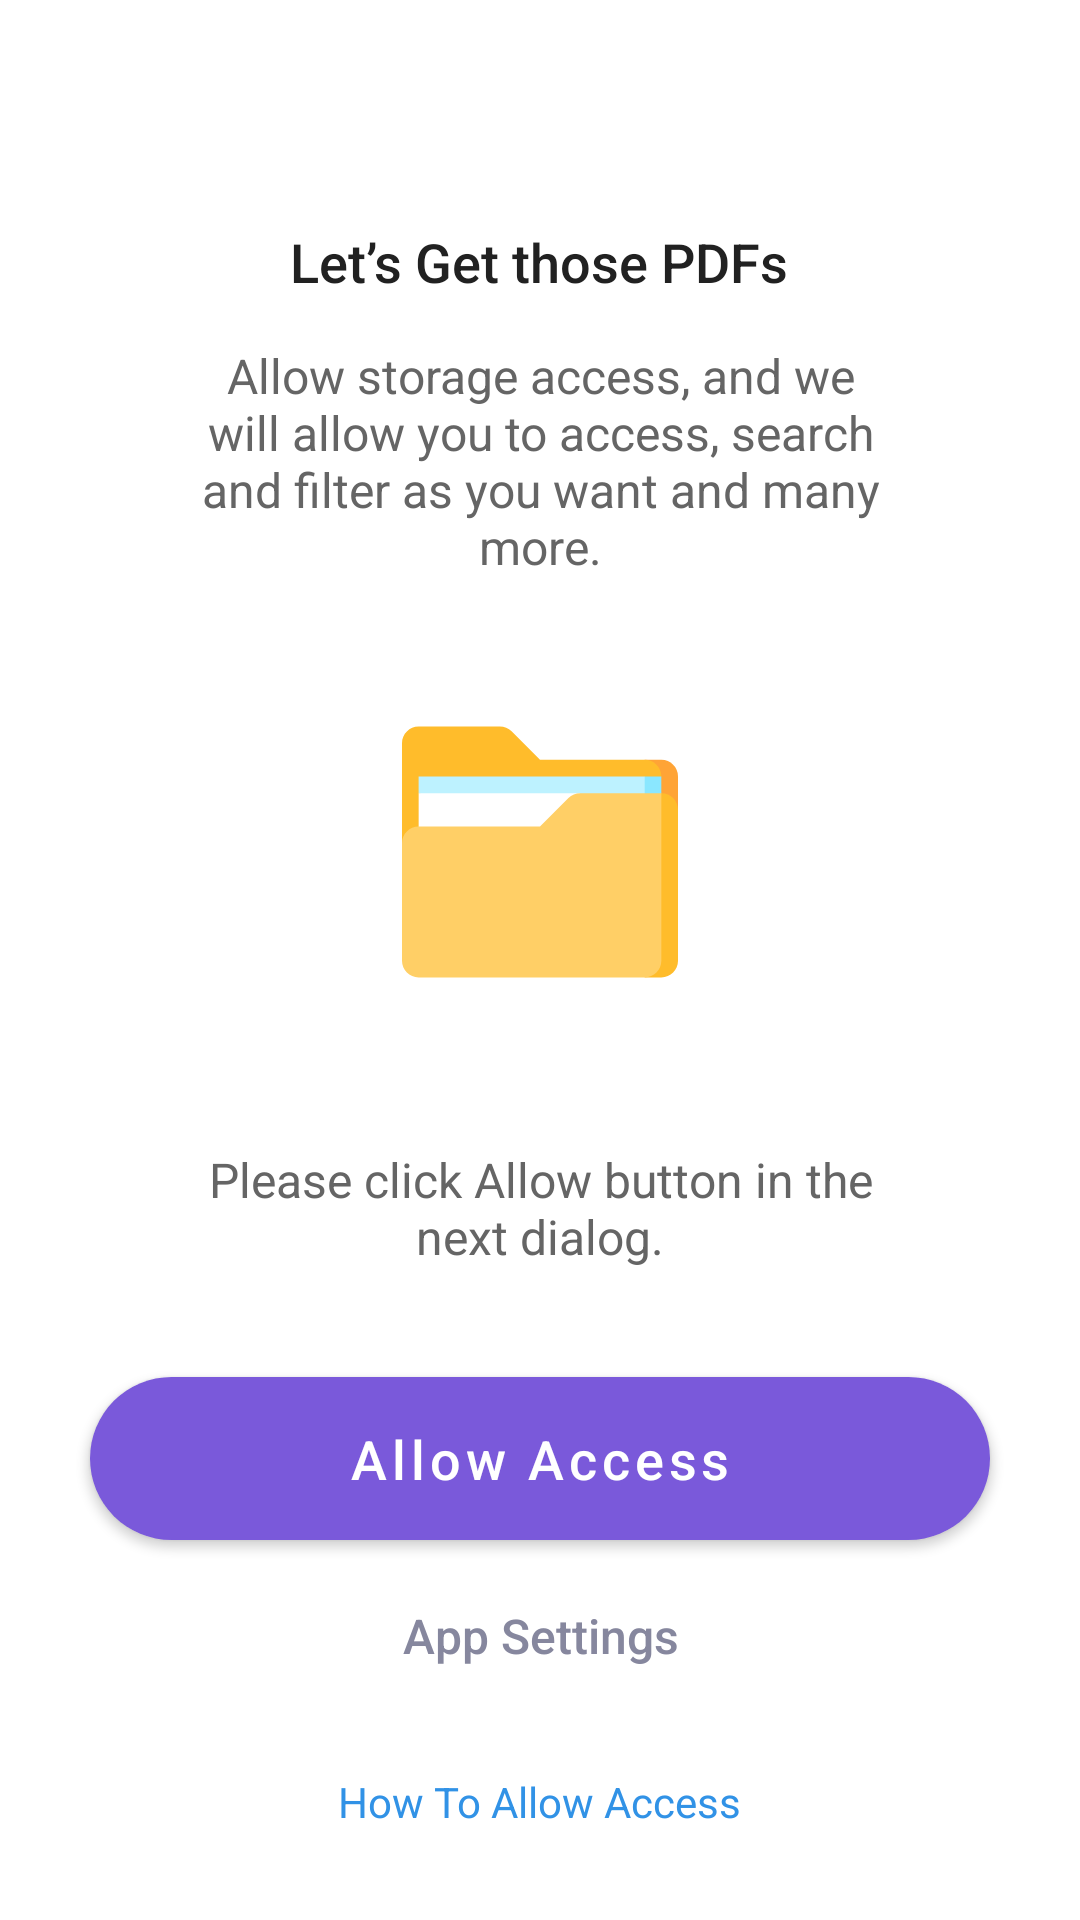

Point at icon controls on the screen. Image size 1080 x 1920, points as point (x, y).
folder permission: point (540, 852)
